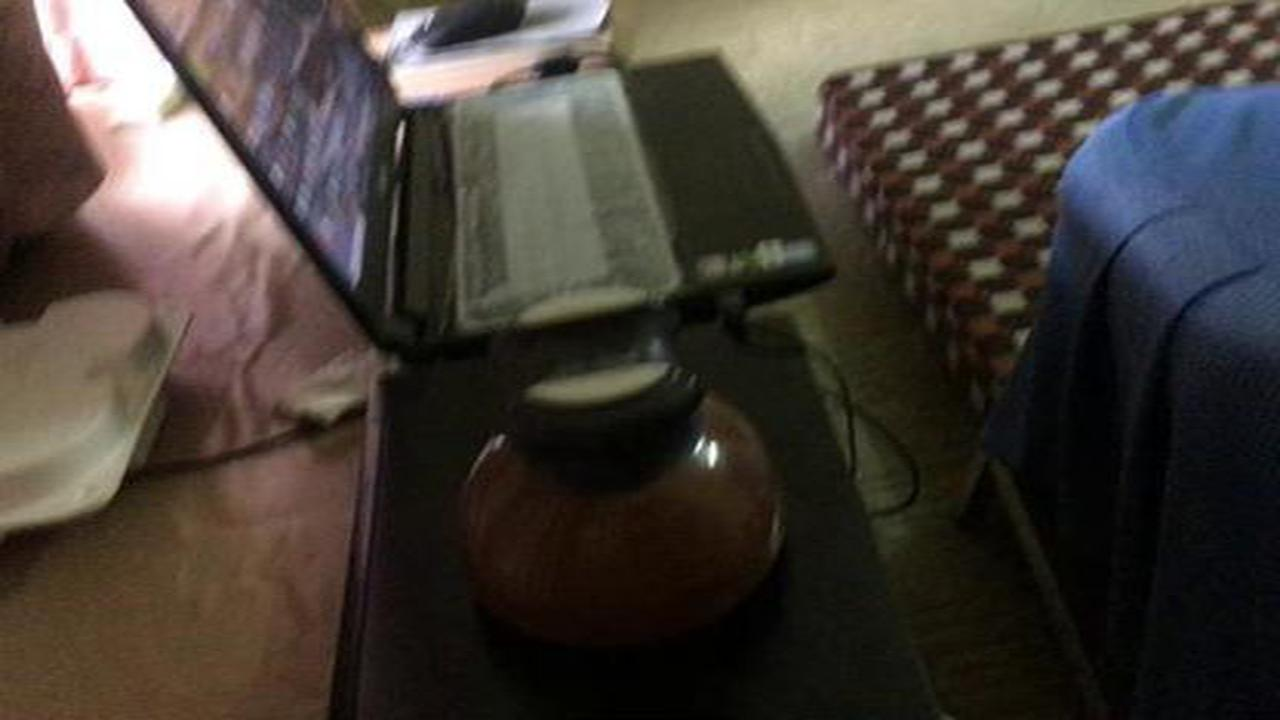insulator_pin: (437, 276, 819, 679)
